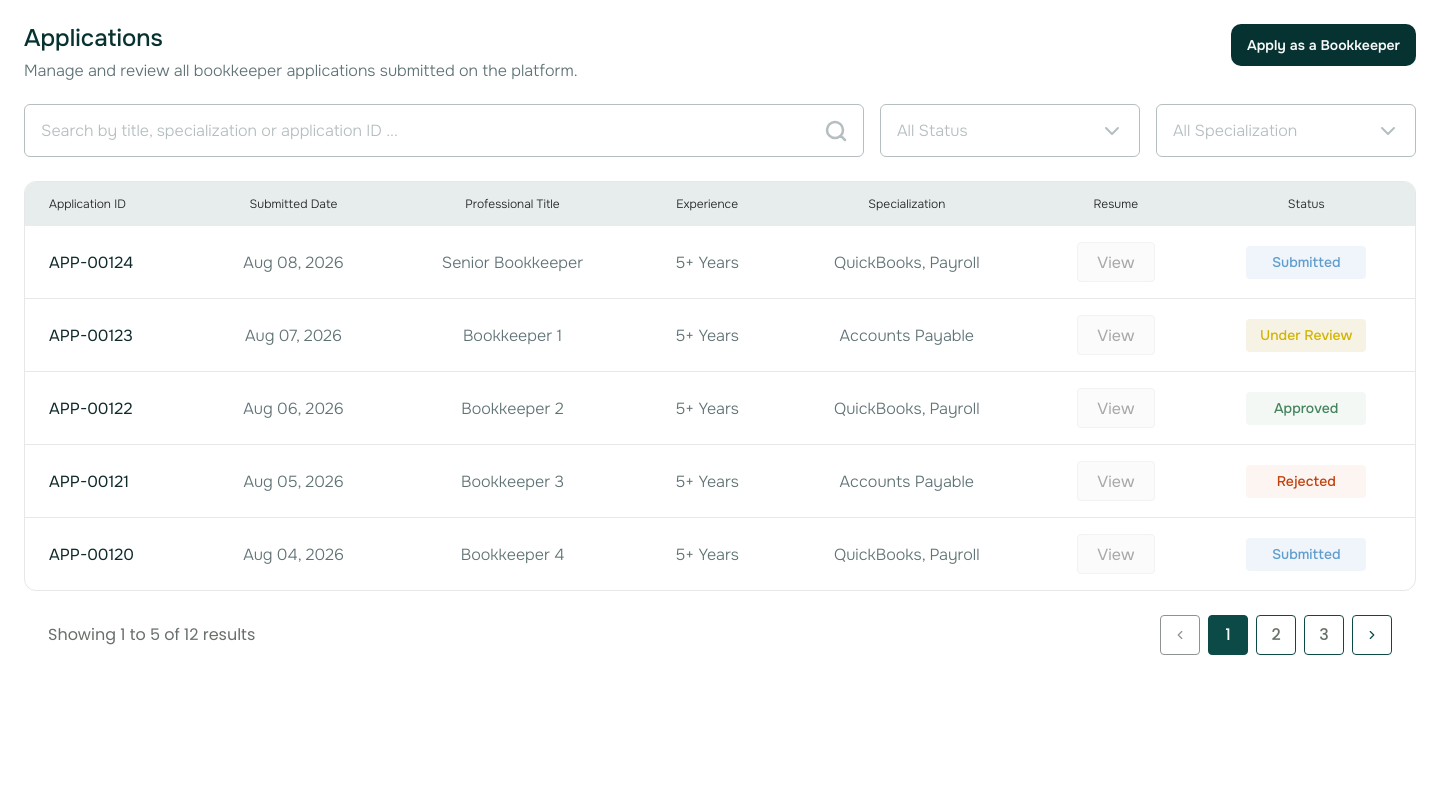
paginates five rows per page
Expected: the text "Showing 1 to 5 of 12 results" is shown, left=48, top=623, right=255, bottom=647
Expected: the button named "Previous page" is disabled, left=1160, top=615, right=1200, bottom=655
Click the button named "Page 3".
click(1324, 635)  # box left=1304, top=615, right=1344, bottom=655
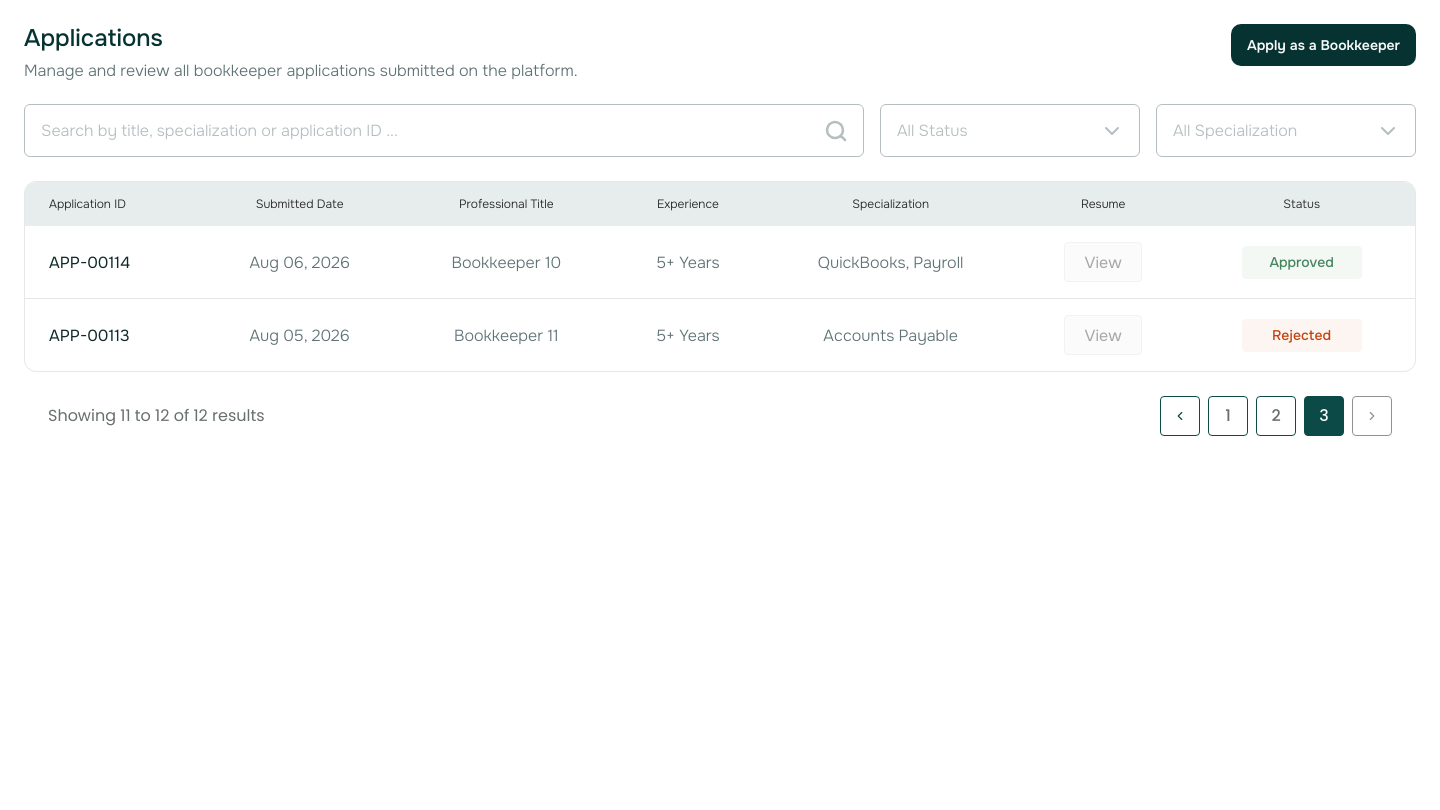
Expected: the button named "Next page" is disabled, left=1352, top=396, right=1392, bottom=436
Now the text "Showing 11 to 12 of 12 results" is shown, box left=48, top=404, right=265, bottom=428
Click the button named "Previous page".
click(1180, 416)  # box left=1160, top=396, right=1200, bottom=436
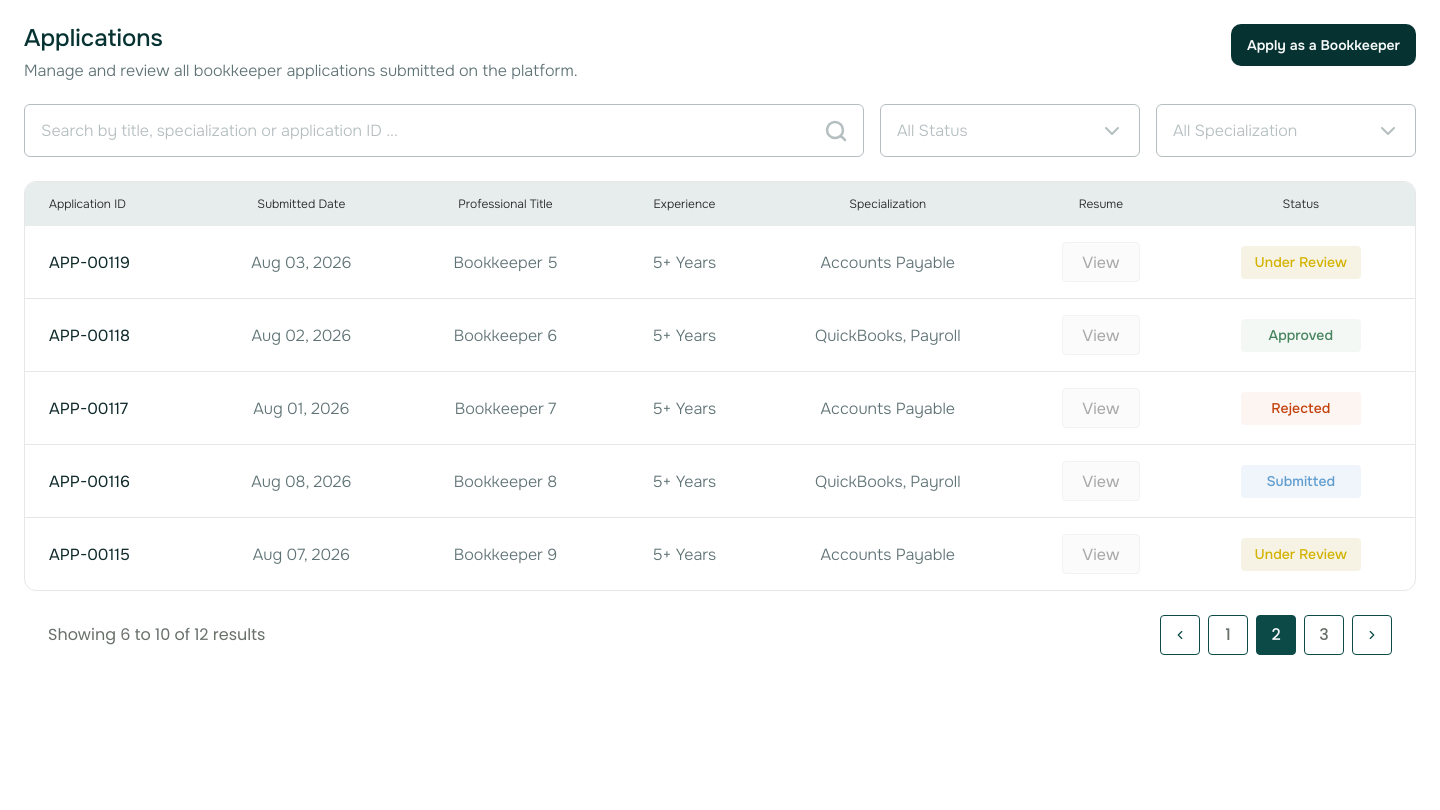
Now the text "Showing 6 to 10 of 12 results" is shown, box left=48, top=623, right=265, bottom=647
